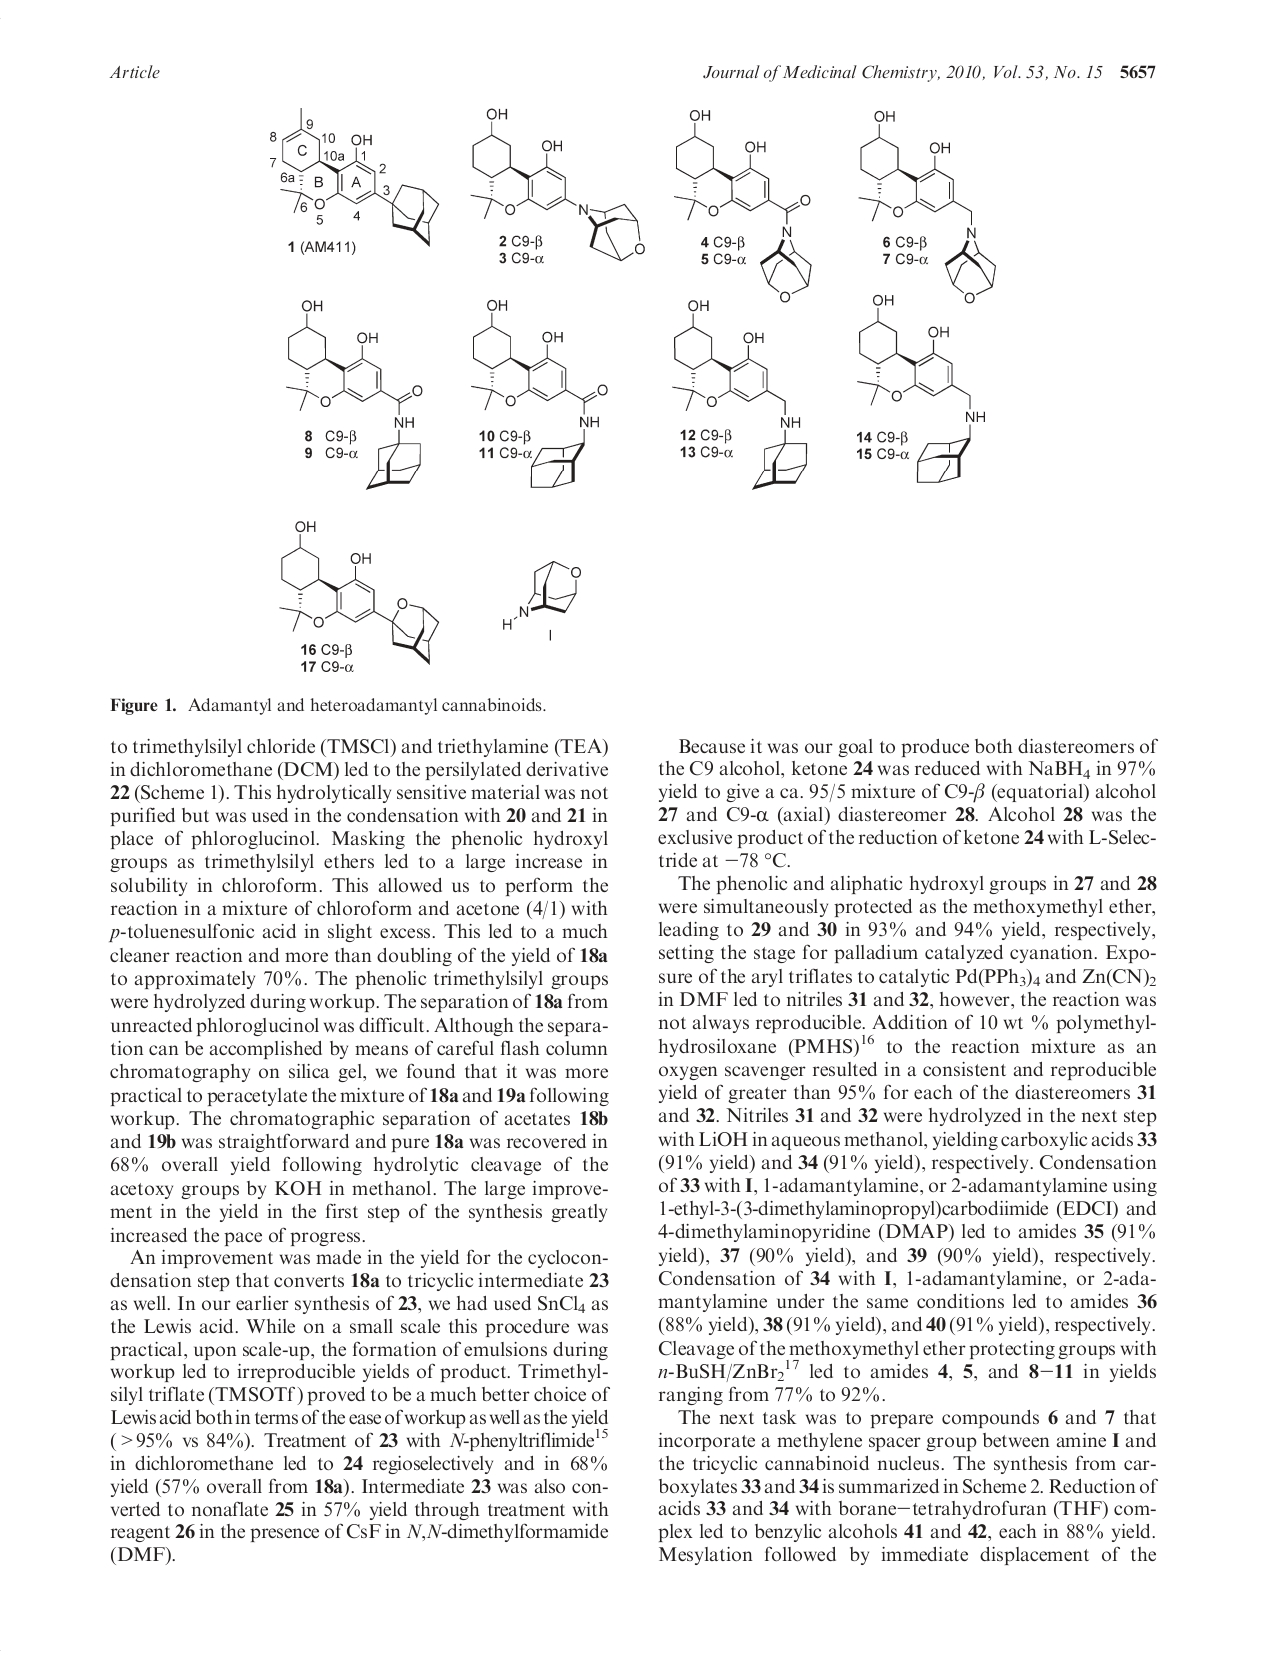exist_molecular: (465, 105, 646, 263), (856, 109, 999, 307), (676, 106, 815, 305), (286, 295, 426, 491), (469, 298, 610, 489), (672, 299, 813, 489), (850, 294, 989, 485), (266, 104, 438, 247), (279, 519, 442, 668), (500, 559, 582, 630)
